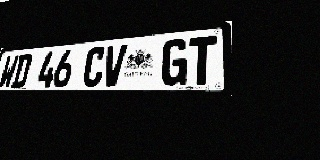4: (36, 51, 59, 88)
6: (52, 49, 76, 87)
C: (81, 46, 107, 87)
D: (11, 53, 33, 88)
G: (160, 38, 189, 86)
T: (187, 35, 217, 85)
V: (101, 44, 127, 87)
W: (0, 55, 19, 88)
